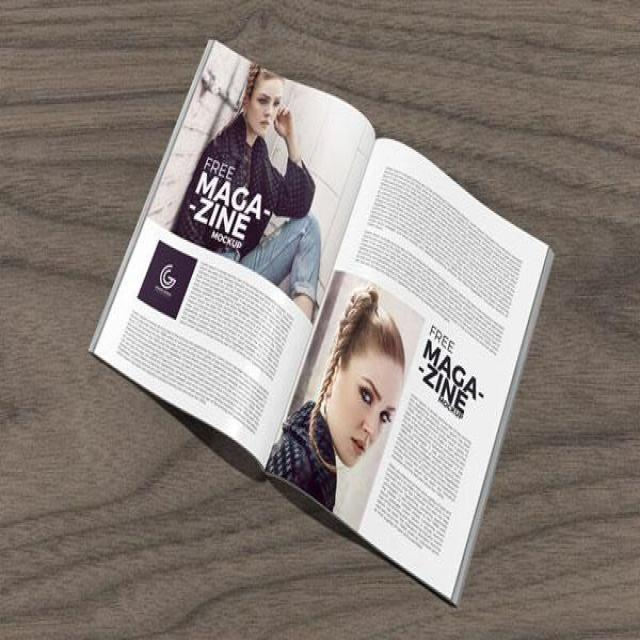paper: (89, 41, 556, 612)
